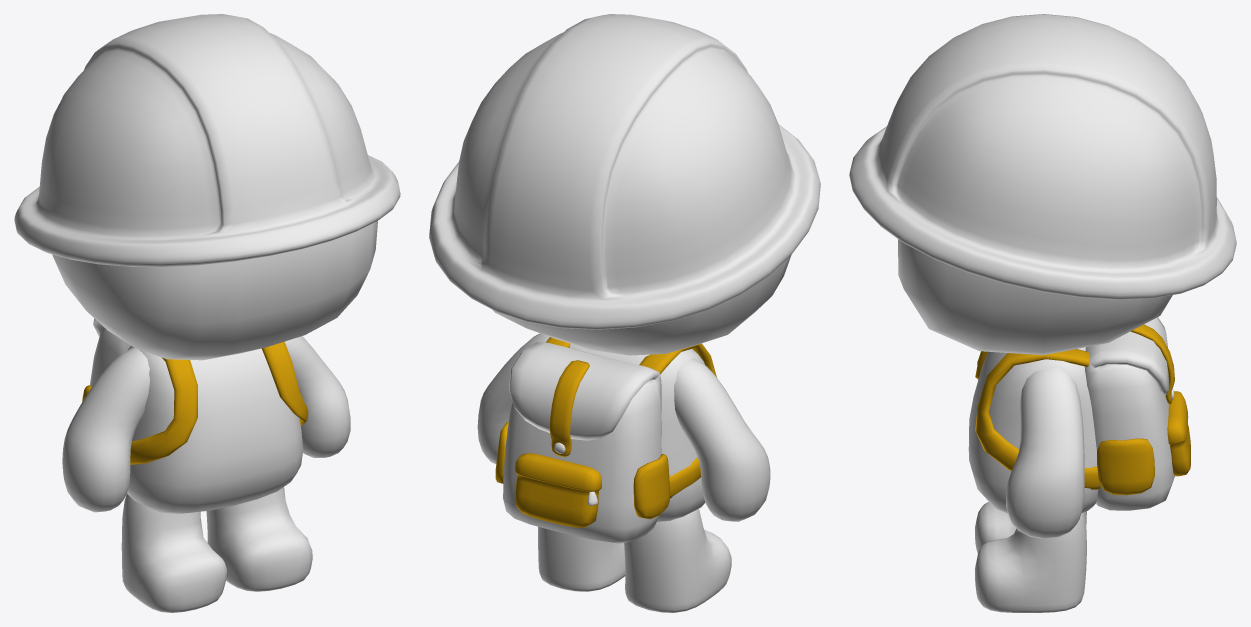
The model's file is muñequito_texturas.fbx.
3 views of the same model, side by side, from view 1: azimuth 30°, elevation 25°; view 2: azimuth 150°, elevation 25°; view 3: azimuth 270°, elevation 25° (orthographic).
Parts seen in each view (by area): view 1: Cube.009, Cube.014, Backpack.001, Backpack; view 2: Cube.014, Cube.009, Backpack, Backpack.001; view 3: Cube.014, Cube.009, Backpack, Backpack.001.
Boxes of the visible parts, box(x1,y1,x2,y2) form: Cube.009: box(52, 221, 377, 612); Cube.014: box(14, 14, 400, 267); Backpack.001: box(82, 341, 308, 464); Backpack: box(90, 318, 130, 386); Cube.014: box(429, 14, 820, 329); Cube.009: box(477, 255, 791, 612); Backpack: box(503, 342, 661, 543); Backpack.001: box(495, 337, 716, 527); Cube.014: box(849, 14, 1236, 299); Cube.009: box(898, 239, 1172, 612); Backpack: box(1085, 317, 1174, 510); Backpack.001: box(975, 324, 1190, 495).
Size of the model in its own units: 281 by 445 by 286.
